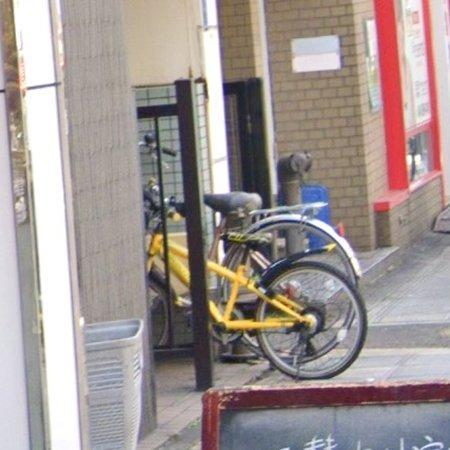bicycles: (143, 80, 367, 391)
